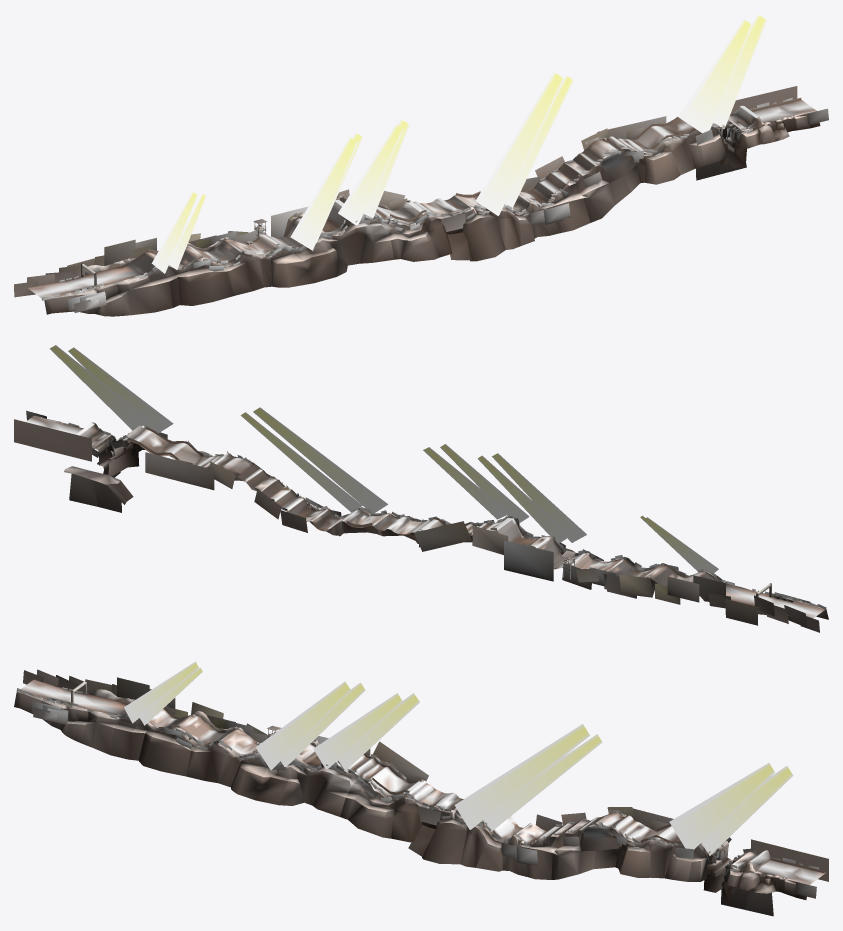
The model's file is Forest_04.fbx.
3 renders of one model, top to bottom at view 1: azimuth 30°, elevation 25°; view 2: azimuth 150°, elevation 25°; view 3: azimuth 330°, elevation 25°, orthographic. The views are drawn at different scales.
Visible parts, largest first — view 1: Mountain_01, Light_01_V, Ground_03_V01, tree_01_A01, tree_01_A03, Leak_A; view 2: tree_01_A01, Light_01_V, Ground_03_V01, Mountain_01, tree_01_A03; view 3: Mountain_01, Light_01_V, Ground_03_V01, tree_01_A01, tree_01_A03, Leak_A.
Part boxes in pixels (x1,y1,x2,y2): Mountain_01: (43, 110, 820, 316); Light_01_V: (151, 14, 767, 273); Ground_03_V01: (28, 100, 815, 297); tree_01_A01: (14, 86, 797, 297); tree_01_A03: (41, 108, 828, 312); Leak_A: (147, 98, 801, 268); tree_01_A01: (14, 419, 819, 632); Light_01_V: (49, 345, 718, 572); Ground_03_V01: (25, 416, 824, 618); Mountain_01: (33, 415, 828, 619); tree_01_A03: (26, 410, 826, 610); Mountain_01: (14, 689, 809, 916); Light_01_V: (124, 661, 793, 855); Ground_03_V01: (21, 679, 825, 884); tree_01_A01: (23, 669, 828, 881); tree_01_A03: (16, 688, 816, 898); Leak_A: (158, 707, 824, 873).
Bounding box in the file's own units: 43290 × 7817 × 4836.
